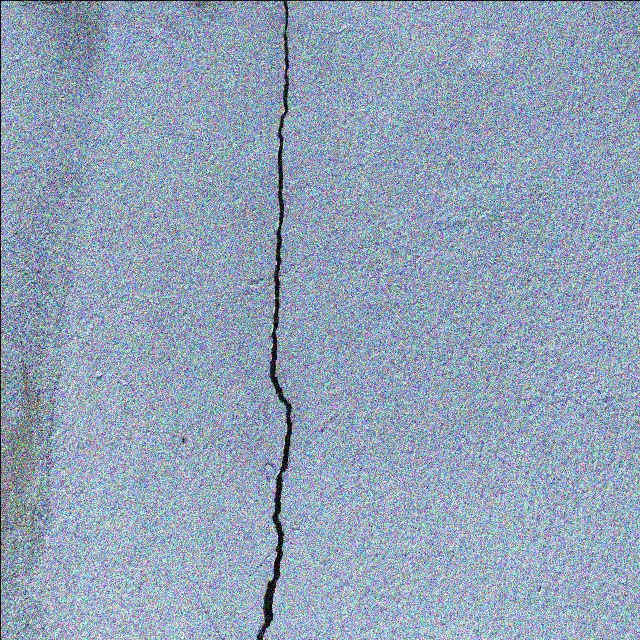SurfaceCrack: (209, 1, 345, 640)
